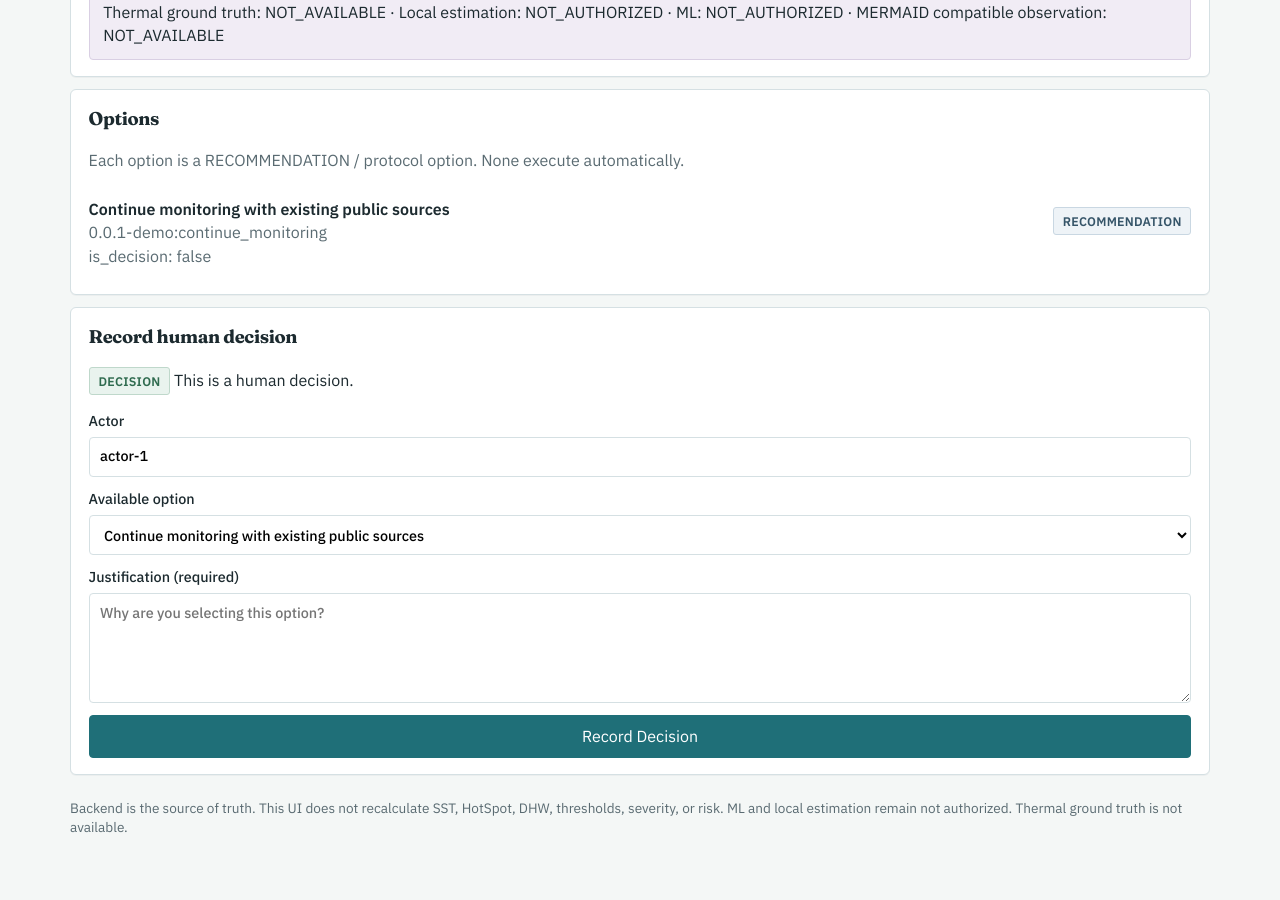
Test: BALIZA Visual MVP › shows DSS options as recommendations and records decision with justification
(page scrolled)
Check: the heading "Options" is shown, box [89,107,159,130]
Check: the text "RECOMMENDATION" is shown, box [1053,207,1191,235]
Type "Human review for Visual MVP demo" into the text box with test id "justification".
click(640, 648); type("Human review for Visual MVP demo")  # box [89,593,1191,703]
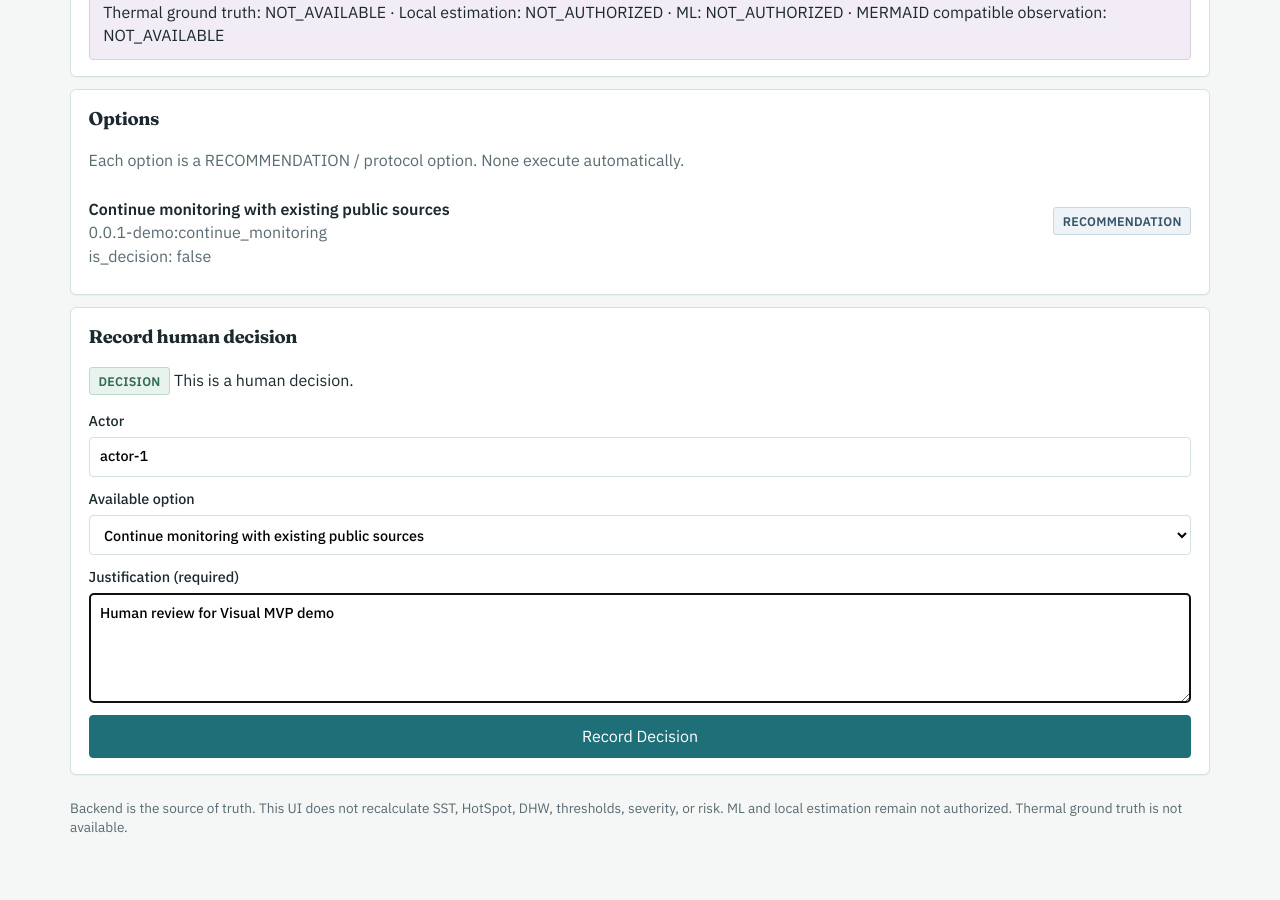
Click the button with test id "record-decision".
click(640, 736)  # box [89,715,1191,758]
(page scrolled)
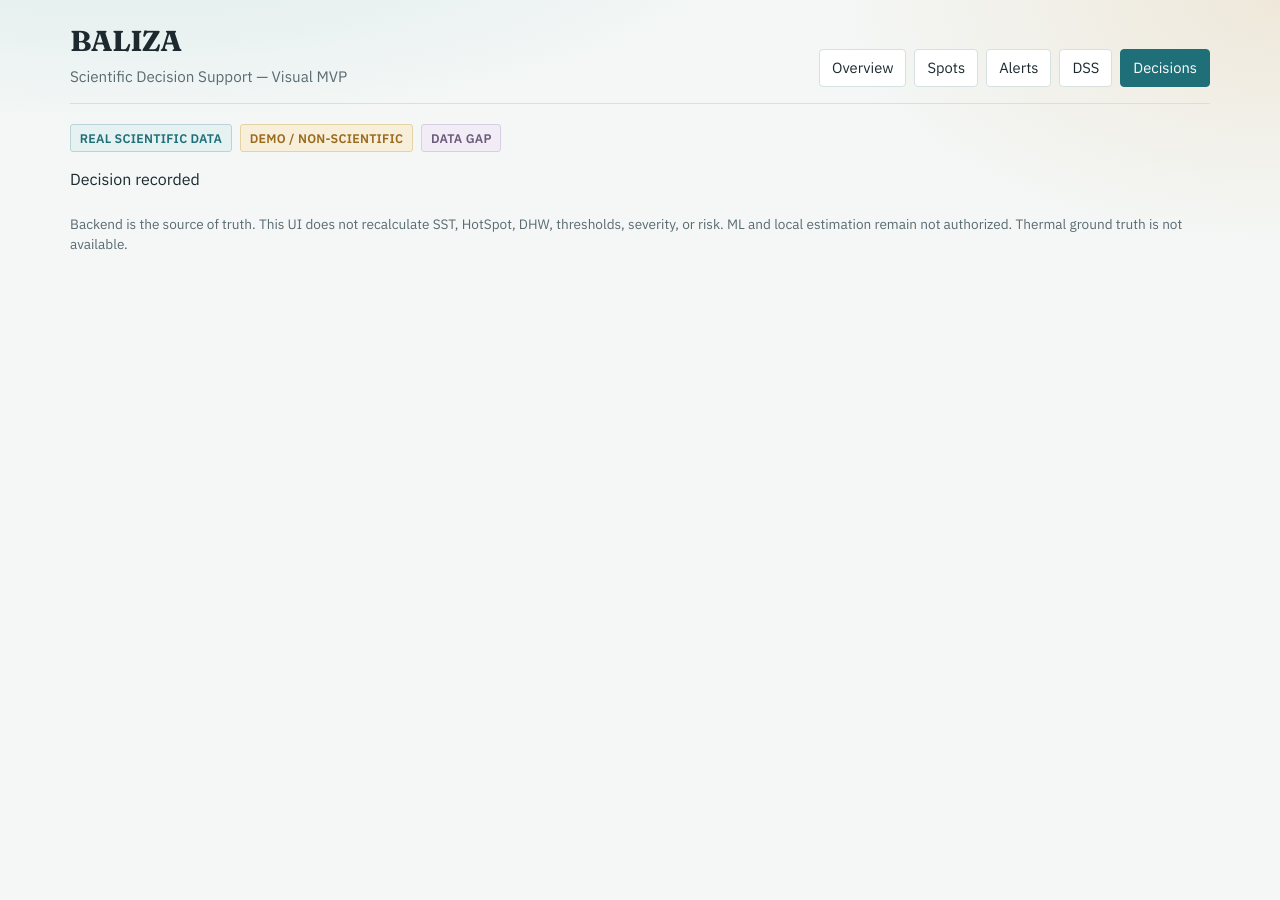
Check: the text "Decision recorded" is shown, box [70,169,200,189]
